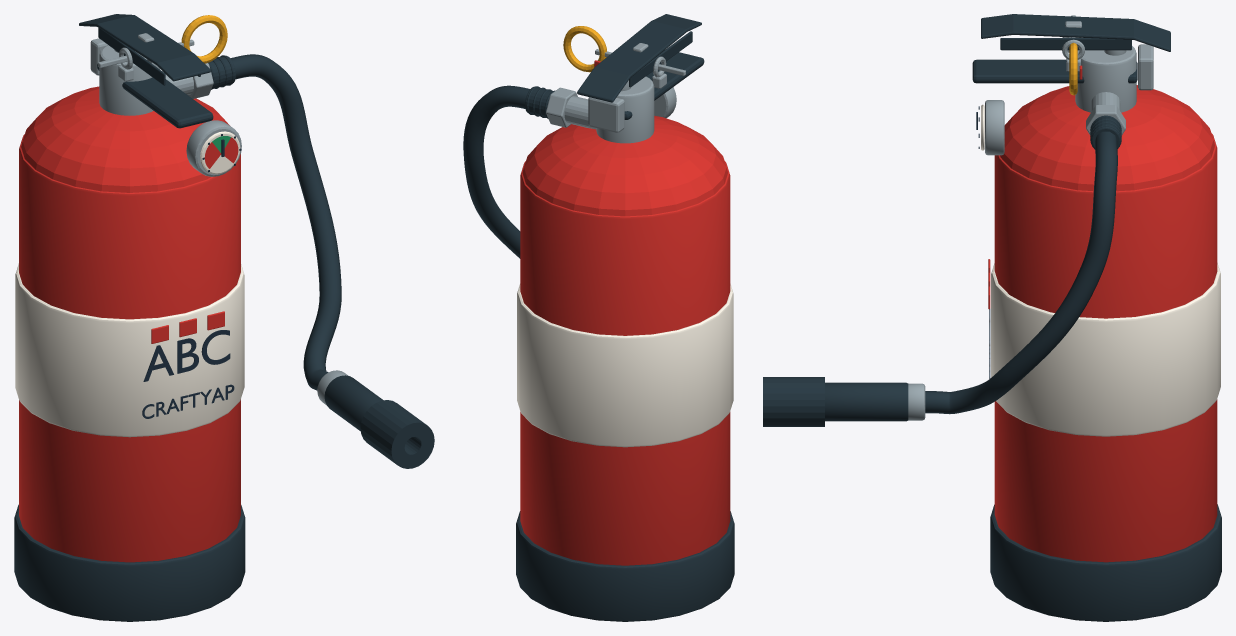
The model's file is extinguisher.glb.
3 views of the same model, side by side, from view 1: azimuth 30°, elevation 25°; view 2: azimuth 150°, elevation 25°; view 3: azimuth 270°, elevation 25° (orthographic). The views are drawn at different scales.
Visible parts, largest first — view 1: Tank, Label band, Protective base, Tank shoulder, Flexible hose, Hollow nozzle, Formed upper operating lever, Fixed carry grip, Valve, Nozzle grip, Label ABC, Pressure gauge (+4 smaller); view 2: Tank, Label band, Tank shoulder, Protective base, Flexible hose, Formed upper operating lever, Valve, Handle rear support, Fixed carry grip, Side pull ring, Threaded union nut, Lever folded edge (+3 smaller); view 3: Tank, Label band, Tank shoulder, Protective base, Flexible hose, Formed upper operating lever, Nozzle grip, Hollow nozzle, Valve, Fixed carry grip, Lever folded edge.001, Pressure gauge (+2 smaller).
Part boxes in pixels (bbox=[...]): Tank: bbox=[19, 134, 240, 562]; Label band: bbox=[15, 263, 244, 437]; Protective base: bbox=[14, 504, 245, 621]; Tank shoulder: bbox=[21, 86, 229, 192]; Flexible hose: bbox=[230, 54, 341, 390]; Hollow nozzle: bbox=[360, 400, 434, 468]; Formed upper operating lever: bbox=[79, 14, 210, 81]; Fixed carry grip: bbox=[97, 64, 213, 128]; Valve: bbox=[99, 45, 160, 115]; Nozzle grip: bbox=[324, 375, 383, 431]; Label ABC: bbox=[143, 330, 230, 381]; Pressure gauge: bbox=[186, 120, 241, 176]; Tank: bbox=[520, 161, 730, 565]; Label band: bbox=[517, 284, 733, 447]; Tank shoulder: bbox=[522, 115, 727, 216]; Protective base: bbox=[516, 511, 734, 621]; Flexible hose: bbox=[463, 85, 529, 258]; Formed upper operating lever: bbox=[577, 14, 701, 102]; Valve: bbox=[596, 76, 654, 143]; Handle rear support: bbox=[588, 97, 624, 132]; Fixed carry grip: bbox=[624, 52, 704, 119]; Side pull ring: bbox=[563, 26, 606, 72]; Threaded union nut: bbox=[546, 87, 577, 127]; Lever folded edge: bbox=[629, 31, 692, 87]; Tank: bbox=[994, 133, 1217, 562]; Label band: bbox=[991, 263, 1220, 436]; Tank shoulder: bbox=[1000, 85, 1214, 191]; Protective base: bbox=[990, 504, 1221, 621]; Flexible hose: bbox=[925, 131, 1117, 414]; Formed upper operating lever: bbox=[981, 14, 1170, 51]; Nozzle grip: bbox=[825, 382, 908, 421]; Hollow nozzle: bbox=[763, 377, 824, 426]; Valve: bbox=[1075, 46, 1136, 112]; Fixed carry grip: bbox=[972, 59, 1137, 83]; Lever folded edge.001: bbox=[1000, 38, 1131, 50]; Pressure gauge: bbox=[985, 100, 1004, 155].
Bounding box in the file's own units: 0.2778 × 0.5308 × 0.396.
